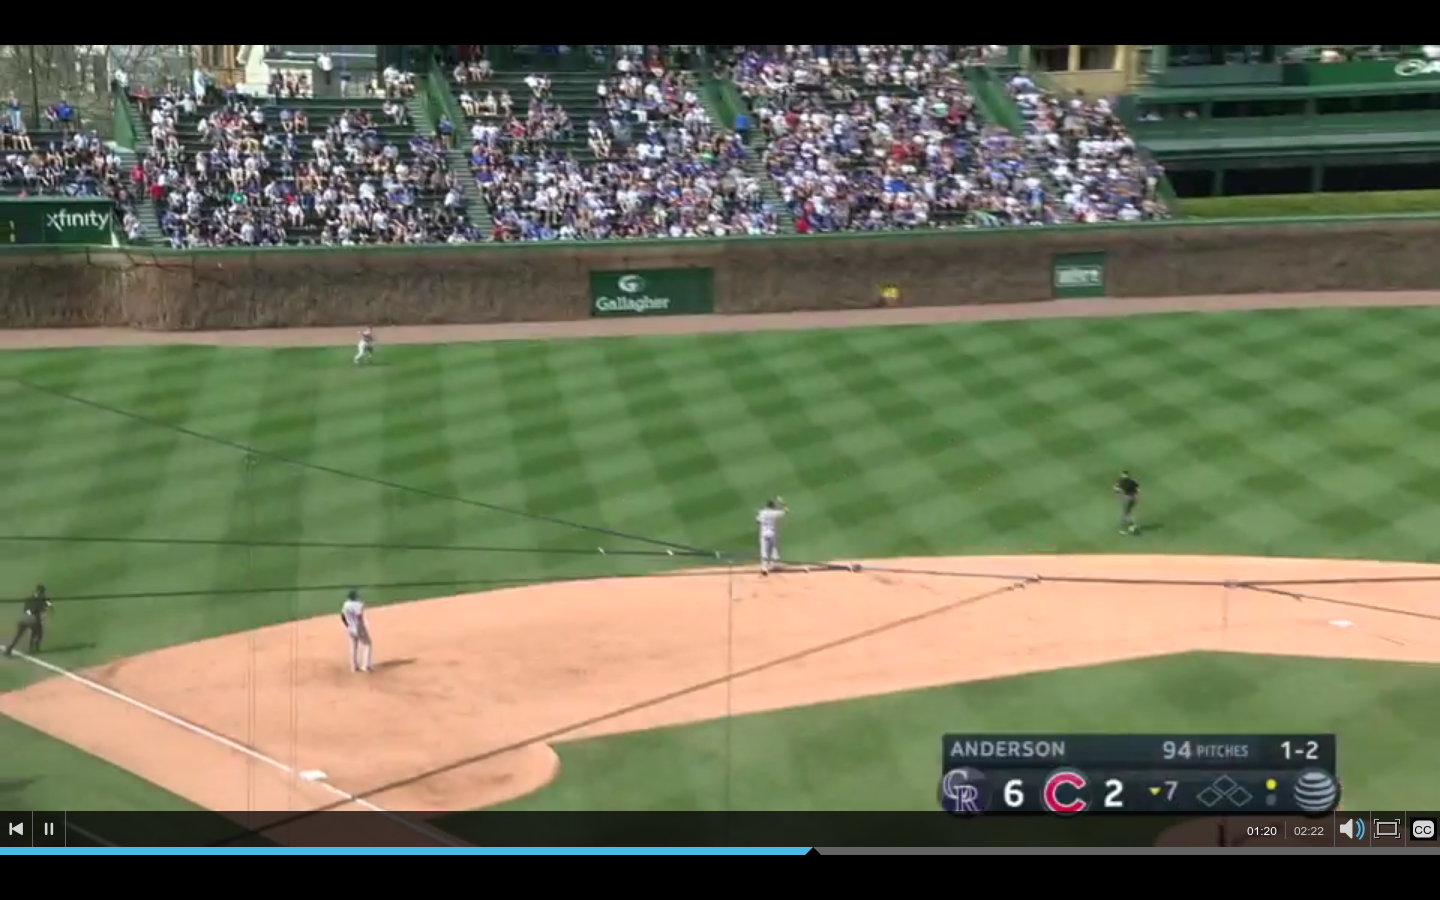baseball player: (335, 585, 382, 679), (750, 492, 793, 571), (352, 323, 379, 365)
referee: (1, 582, 62, 661), (1107, 466, 1147, 540)
